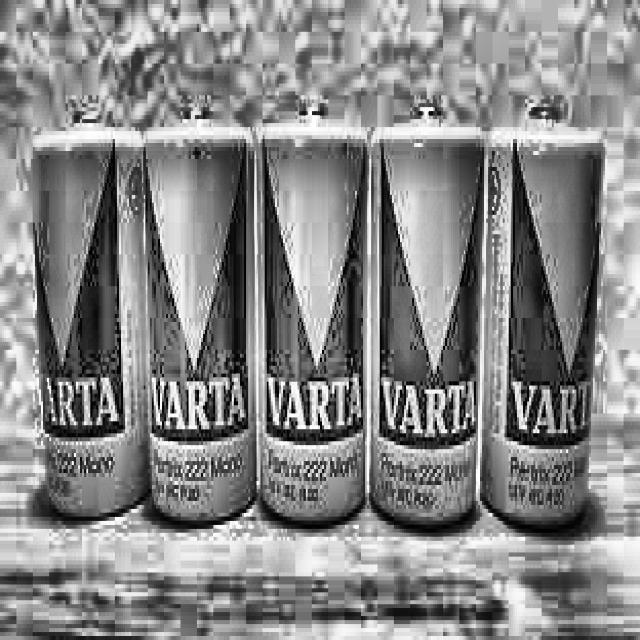Battery: (487, 98, 602, 533), (372, 94, 484, 537), (33, 94, 149, 520), (255, 96, 368, 526), (149, 94, 256, 525)
